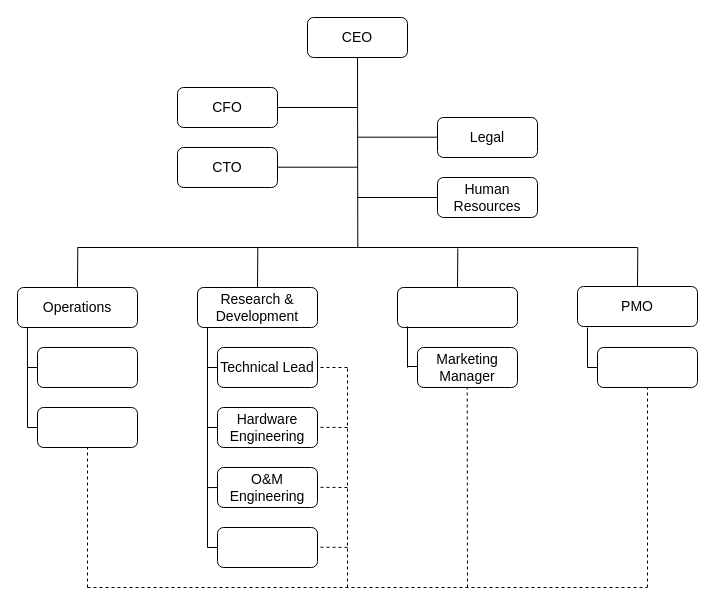
The diagram is 715 pixels wide and 606 high, and some of its shapes have lost their labels. The shapes that lost their labels are listed below. From the top down, each one's centre as x and y in pixels, then its label:
(x=457, y=307): Marketing
(x=87, y=367): Finance
(x=647, y=367): Project Manager
(x=87, y=427): Procurement
(x=267, y=547): Testing Engineering
